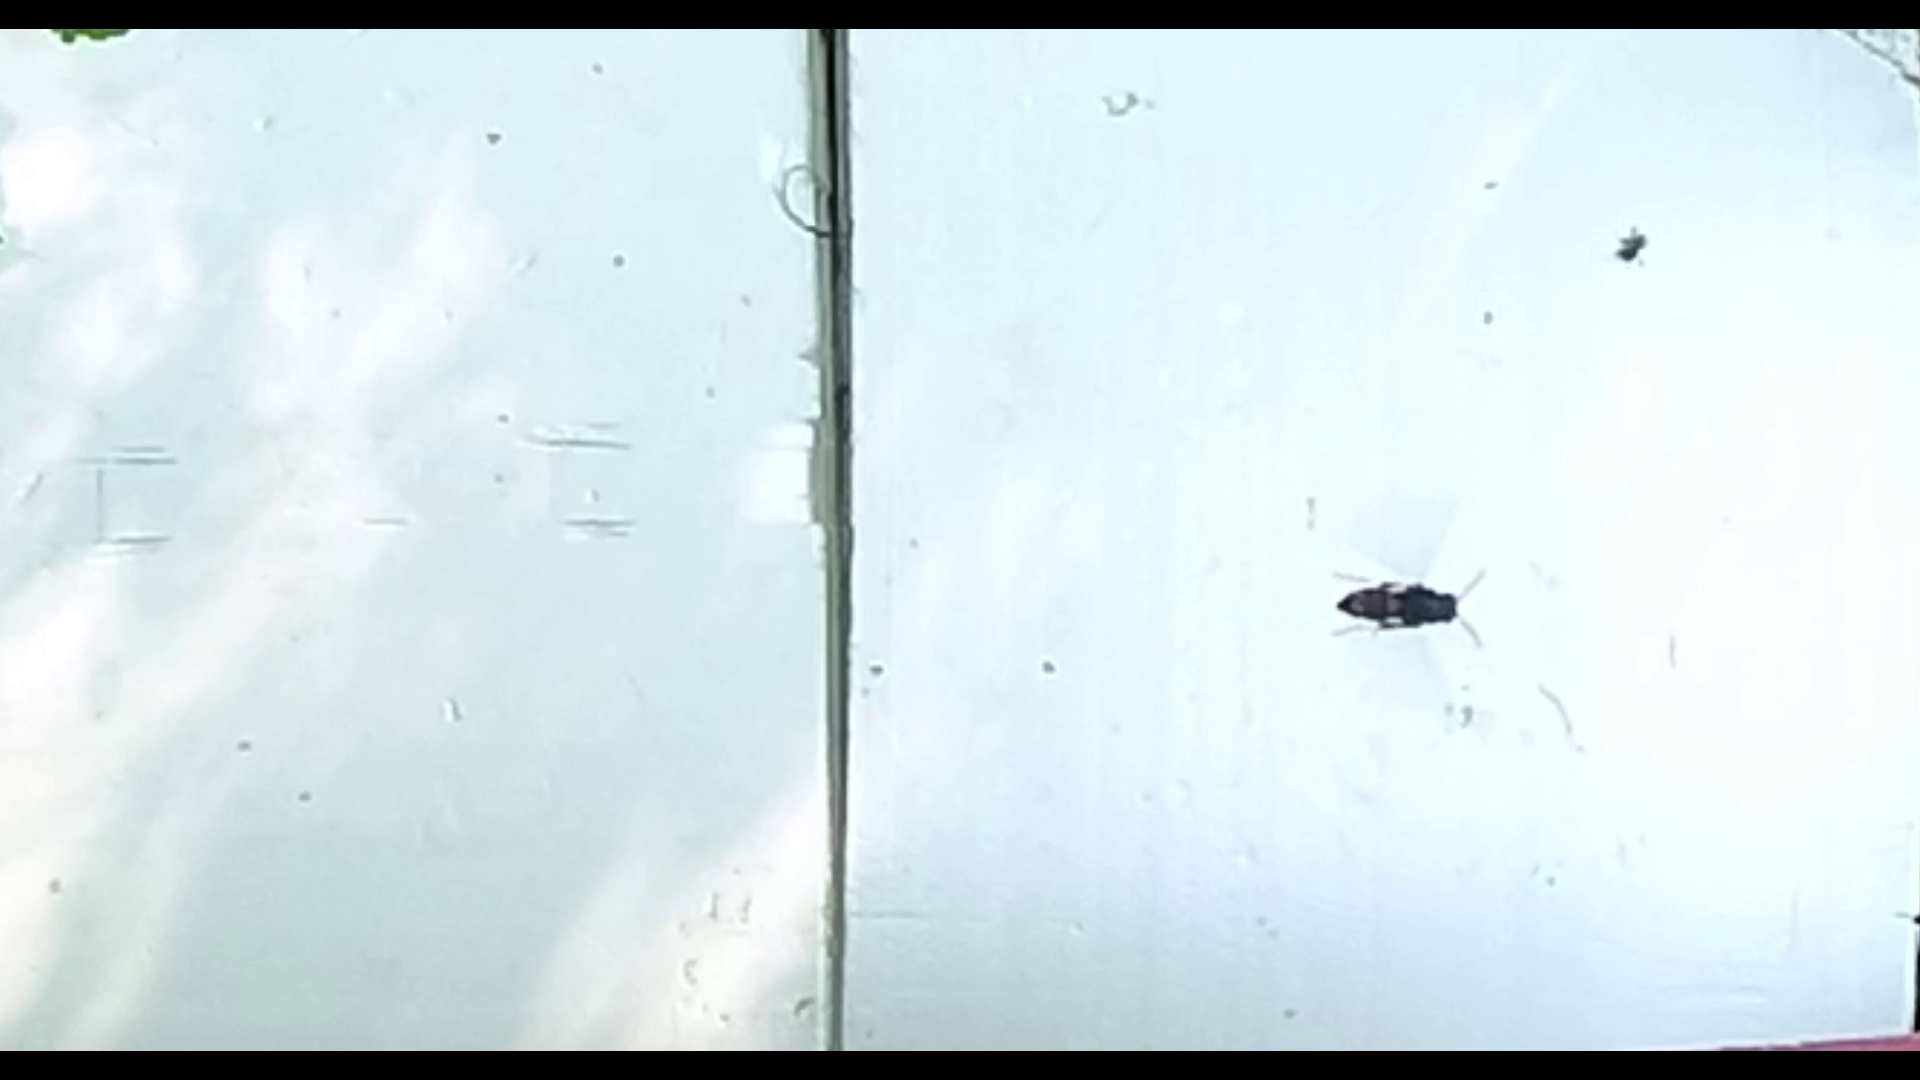Asian_hornets: (1309, 545, 1494, 655)
